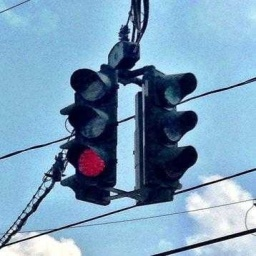traffic light: (60, 67, 118, 188), (142, 70, 198, 189)
